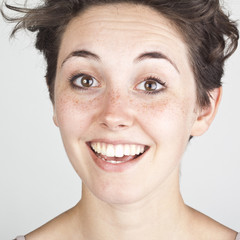teen: (55, 9, 205, 192)
